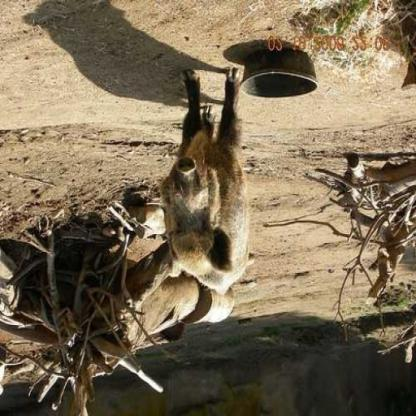boar: (153, 65, 256, 293)
